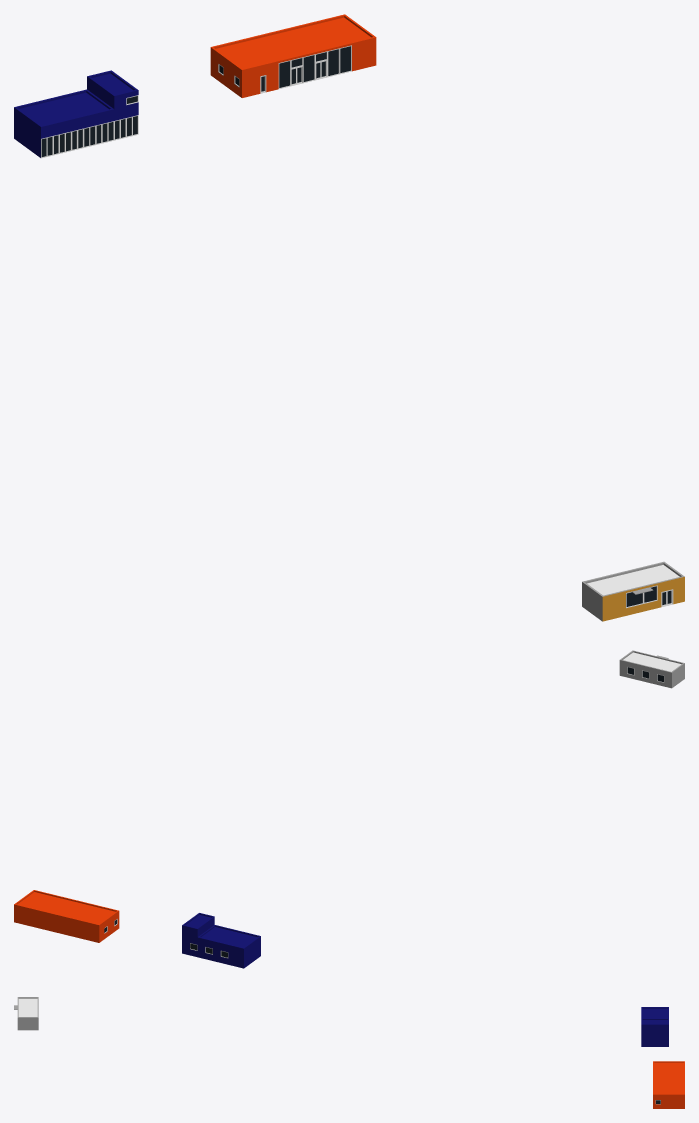
Rendered from Aclo_sportclubs.fbx.
3 views of the same model, one above another, from view 1: azimuth 30°, elevation 25°; view 2: azimuth 150°, elevation 25°; view 3: azimuth 270°, elevation 25° (orthographic). The views are drawn at different scales.
Visible parts, largest first — view 1: Box001; view 2: Box001; view 3: Box001.
Boxes of the visible parts, x1,y1,x2,y2 form: Box001: (14,14,684,621); Box001: (14,650,684,968); Box001: (14,997,684,1108).
Bounding box in the file's own units: 252 × 26.77 × 722.
